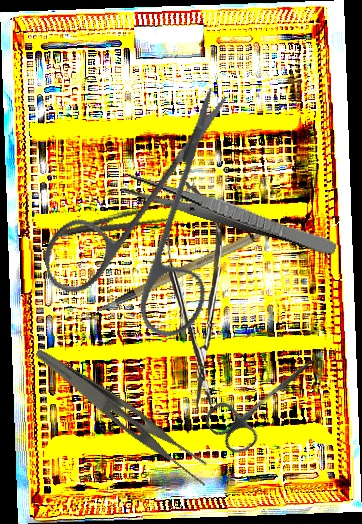Dressing Forceps: (22, 347, 221, 489), (119, 169, 340, 259), (54, 199, 178, 246)
Iris Scissors: (9, 84, 291, 367), (200, 335, 332, 460)
Micro Scissor: (166, 181, 225, 410)
Scalpel Handle: (87, 220, 286, 313)
